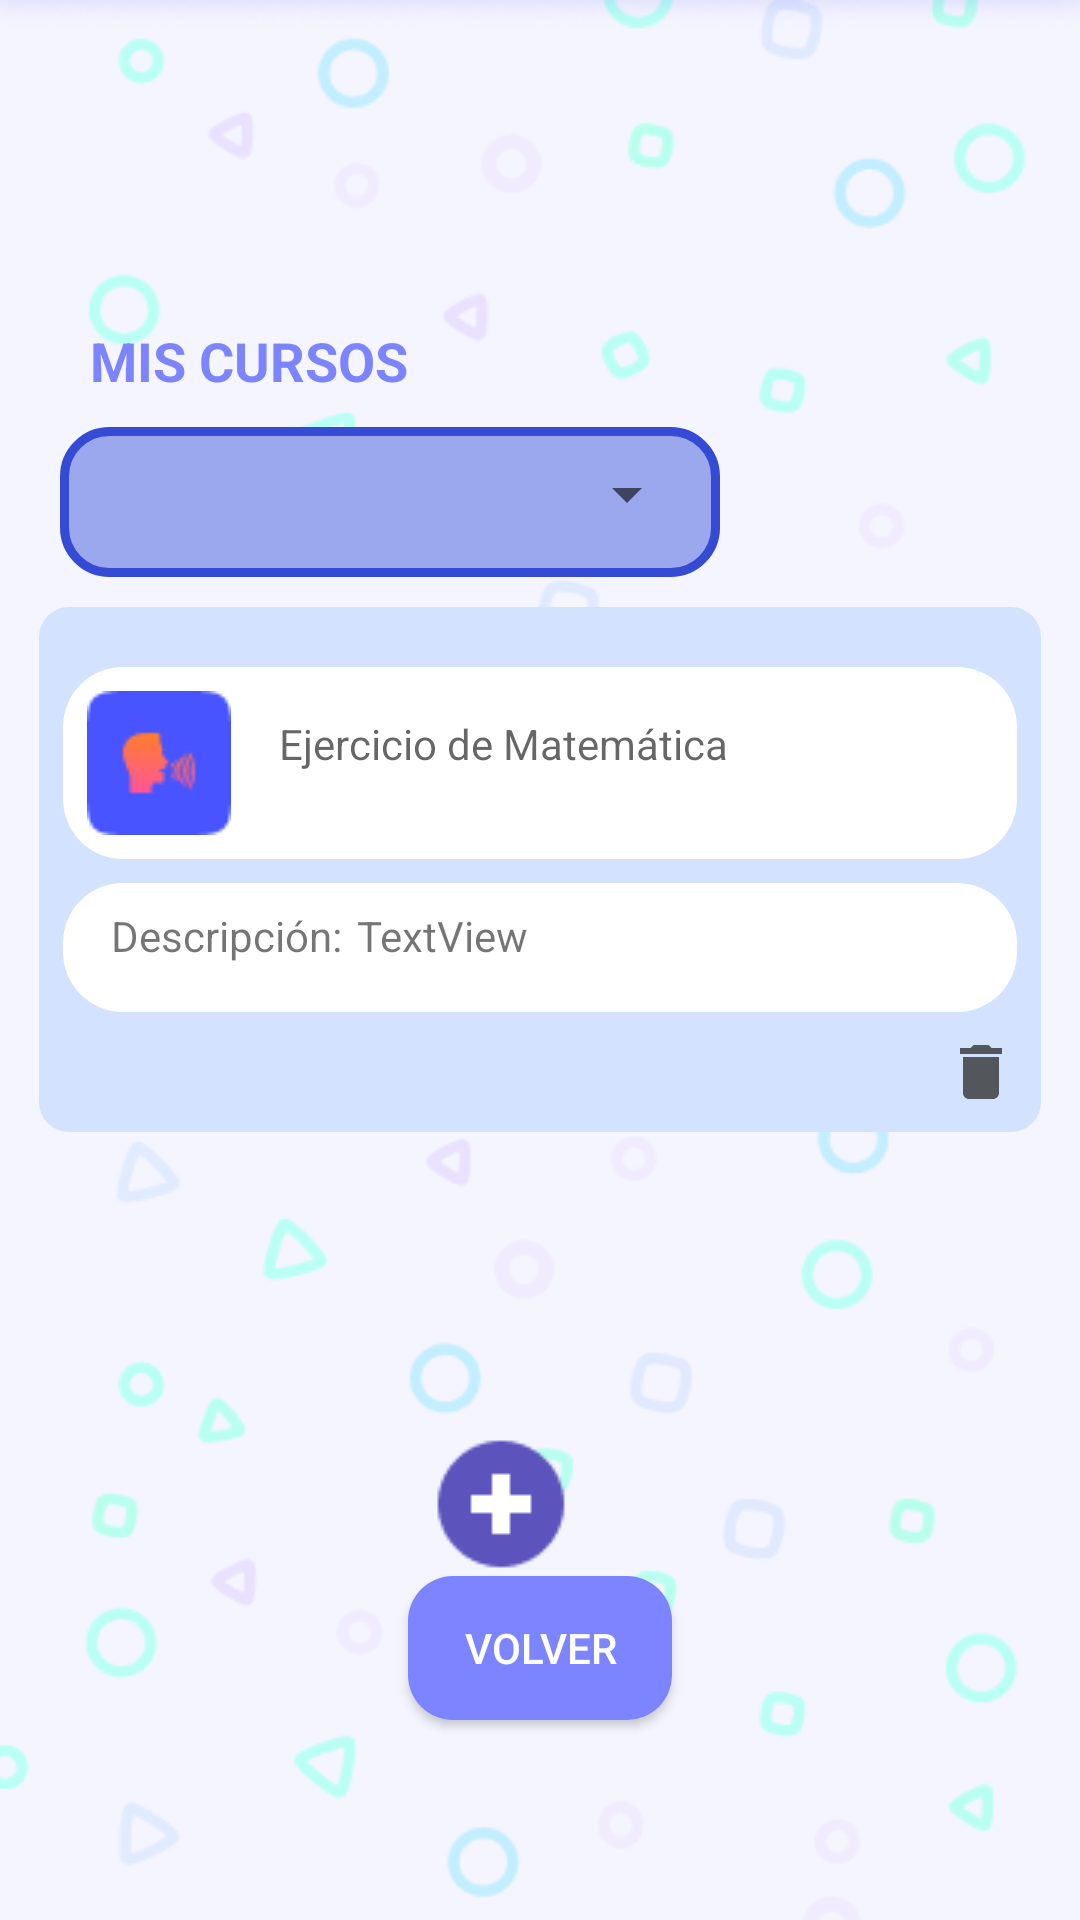

Where icons sit on this 1080px×1920px app screen, as detection(x1, y1, x2, y2):
eliminar: detection(960, 1045, 1002, 1099)
